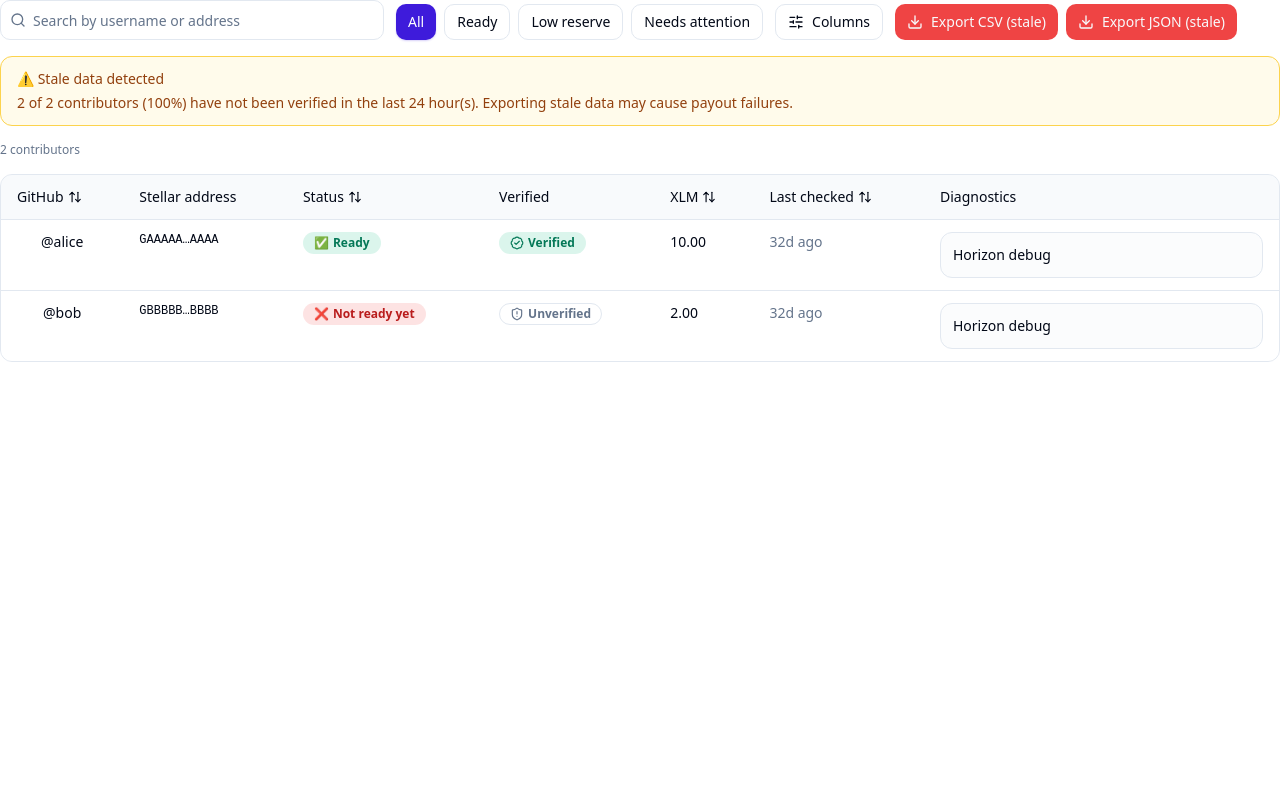
Test: ContributorTable › export confirmation dialog › confirms the JSON export separately from the CSV export
The width and height of the screenshot is (1280, 800).
Click the button "Export JSON (stale)" at (1151, 22), box [1066, 4, 1237, 40]
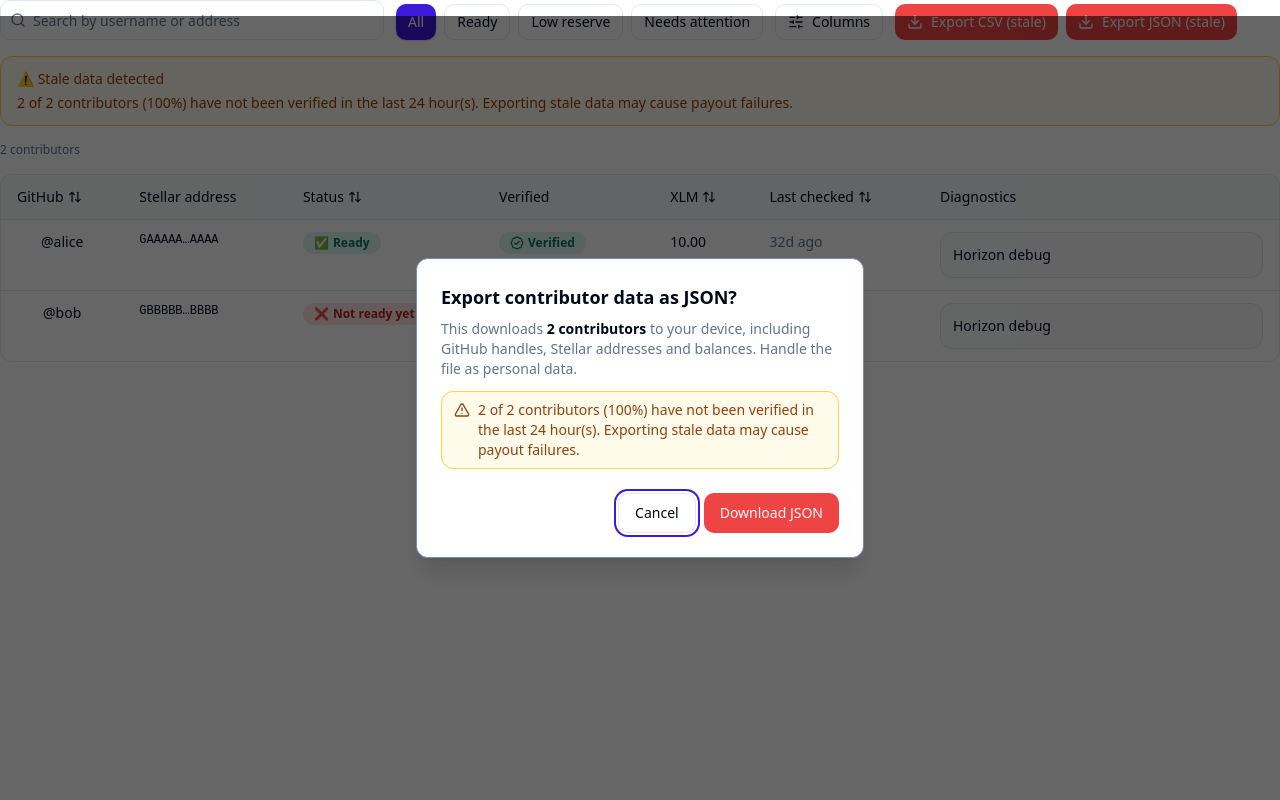
Result: the button "Download JSON" is shown at [704, 493, 839, 533]
